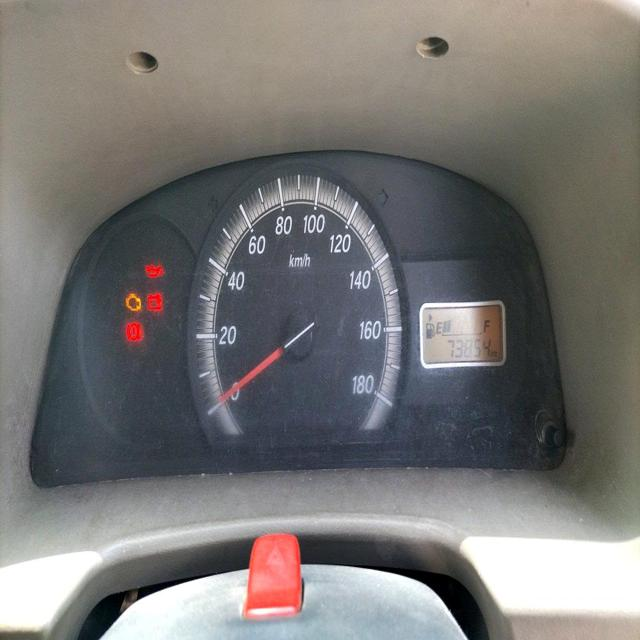odometer: (442, 336, 492, 367)
